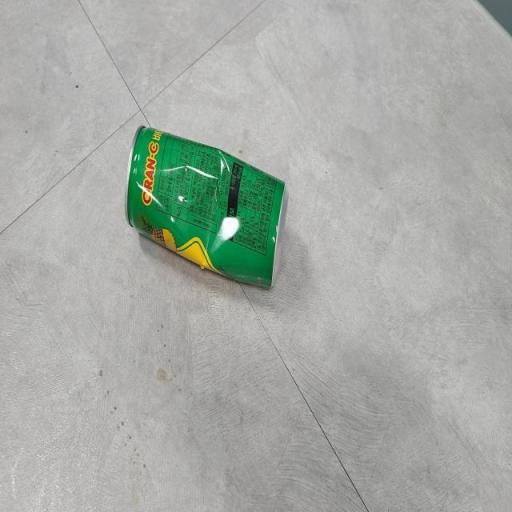metal: (114, 102, 304, 341)
